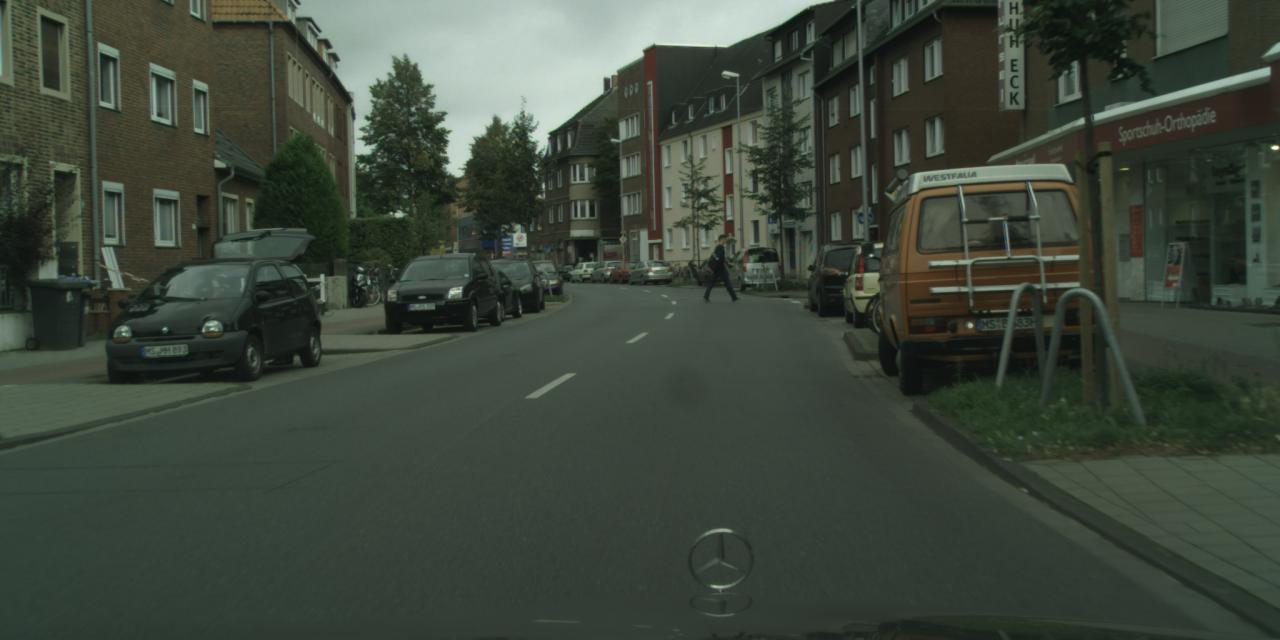ped: (247, 254, 291, 364), (708, 235, 735, 301)
